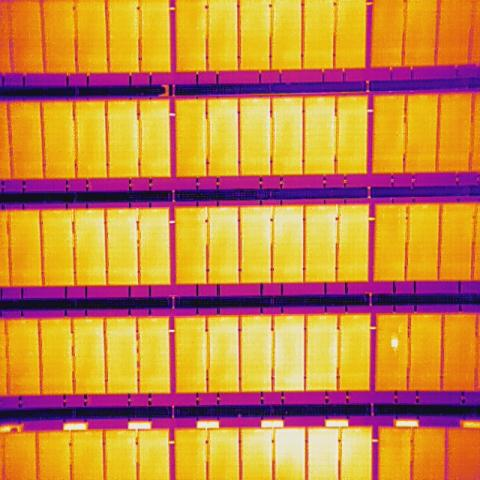fault: (391, 335, 399, 351)
